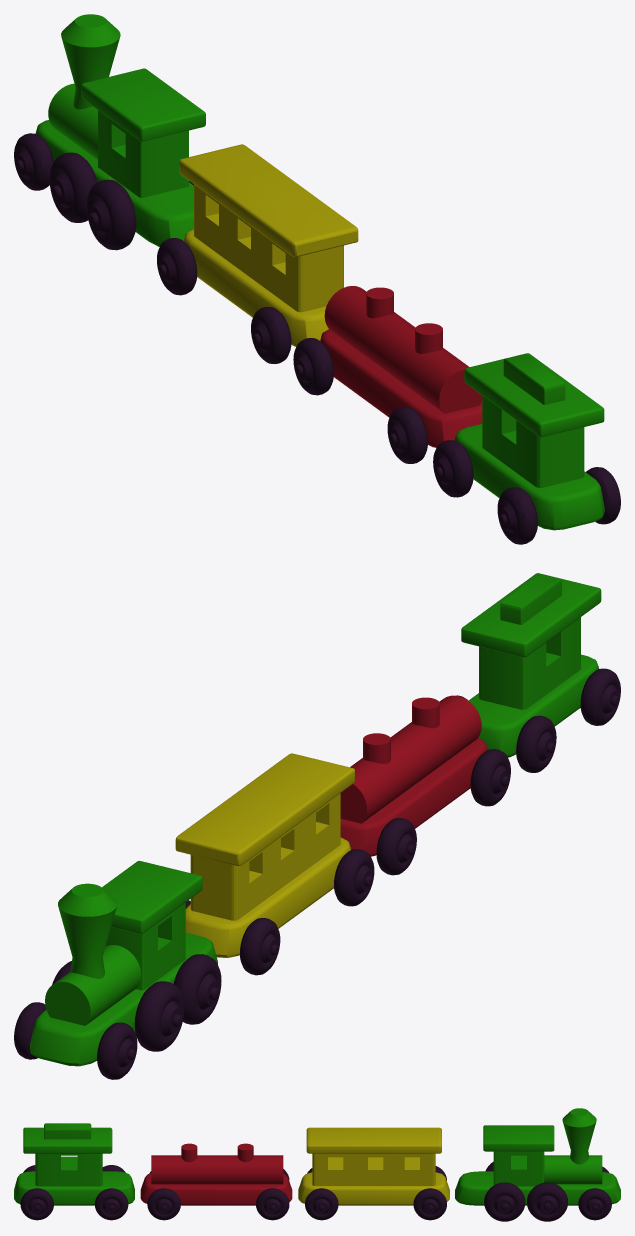
Rendered from trein.fbx.
3 renders of one model, top to bottom at view 1: azimuth 30°, elevation 25°; view 2: azimuth 150°, elevation 25°; view 3: azimuth 270°, elevation 25°, orthographic. The views are drawn at different scales.
Visible parts, largest first — view 1: Cube.005, Cube.004, Cylinder.020, Cube.002, Cube.008, Cube.007, Cube.006, Cube.001, Cube.009, Cube.003, Cube, Cylinder.007 (+14 smaller); view 2: Cube.005, Cube.004, Cylinder.020, Cube.008, Cube.003, Cube.009, Cube.006, Cube, Cube.002, Cylinder, Cube.007, Cylinder.007 (+14 smaller); view 3: Cube.004, Cylinder.020, Cube.005, Cube.006, Cube.003, Cube.008, Cube.007, Cube, Cube.002, Cube.009, Cube.001, Cylinder (+13 smaller).
Part boxes in pixels (x1,y1,x2,y2): Cube.005: (179, 144, 358, 256); Cube.004: (194, 184, 343, 312); Cylinder.020: (324, 286, 482, 413); Cube.002: (81, 68, 205, 141); Cube.008: (482, 395, 584, 487); Cube.007: (454, 423, 604, 530); Cube.006: (320, 329, 482, 447); Cube.001: (98, 110, 188, 197); Cube.009: (464, 353, 604, 437); Cube.003: (183, 229, 328, 346); Cube: (35, 120, 193, 246); Cylinder.007: (61, 14, 120, 109); Cube.005: (175, 753, 354, 866); Cube.004: (190, 793, 340, 920); Cylinder.020: (340, 695, 481, 823); Cube.008: (479, 617, 580, 709); Cube.003: (185, 837, 350, 957); Cube.009: (461, 573, 601, 657); Cube.006: (340, 737, 487, 856); Cube: (30, 933, 217, 1066); Cube.002: (102, 860, 202, 933); Cylinder: (45, 945, 140, 1025); Cube.007: (468, 654, 598, 757); Cylinder.007: (58, 883, 117, 978); Cube.004: (312, 1153, 435, 1185); Cylinder.020: (151, 1155, 283, 1184); Cube.005: (306, 1127, 441, 1153); Cube.006: (140, 1173, 292, 1205); Cube.003: (298, 1172, 449, 1205); Cube.008: (35, 1153, 102, 1186); Cube.007: (14, 1171, 134, 1205); Cube: (455, 1171, 620, 1205); Cube.002: (483, 1125, 554, 1151); Cube.009: (23, 1127, 112, 1153); Cube.001: (493, 1151, 544, 1186); Cylinder: (544, 1155, 602, 1184).
Bounding box in the file's own units: 485 × 612 × 3474.
